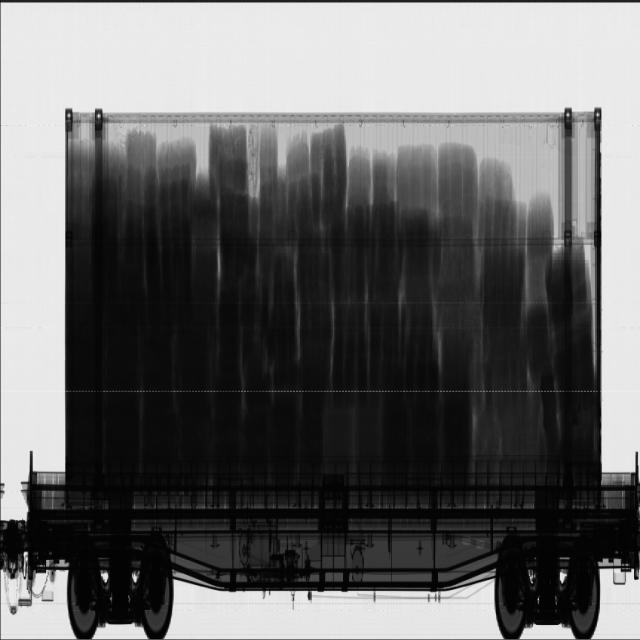clothes: (69, 125, 596, 475)
